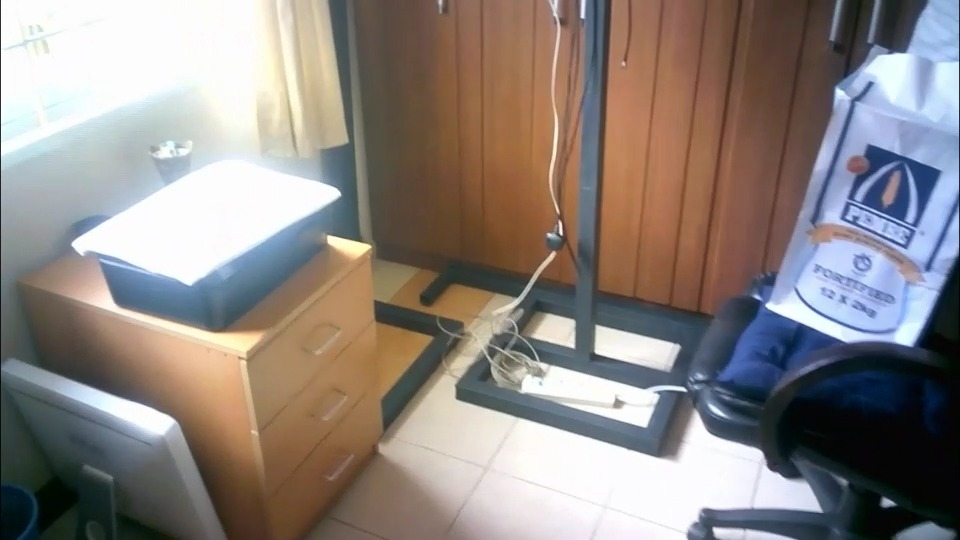wheat_flour_blue_label: (41, 50, 767, 540)
